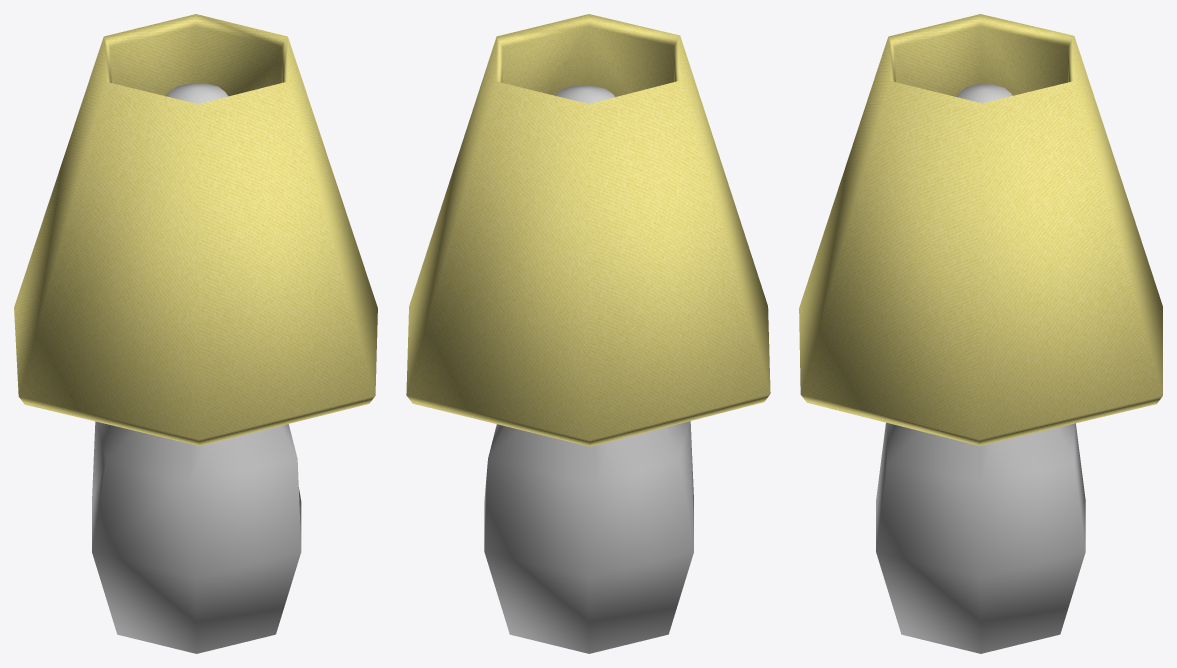
Rendered from Small_Lamp_C.FBX.
3 renders of one model, left to right at view 1: azimuth 30°, elevation 25°; view 2: azimuth 150°, elevation 25°; view 3: azimuth 270°, elevation 25°, orthographic.
Parts seen in each view (by area): view 1: Kid's Lamp; view 2: Kid's Lamp; view 3: Kid's Lamp.
Part boxes in pixels (x1,y1,x2,y2): Kid's Lamp: (14,14,377,653); Kid's Lamp: (406,14,770,653); Kid's Lamp: (799,14,1162,653).
Bounding box in the file's own units: 68.11 × 100 × 59.49.
